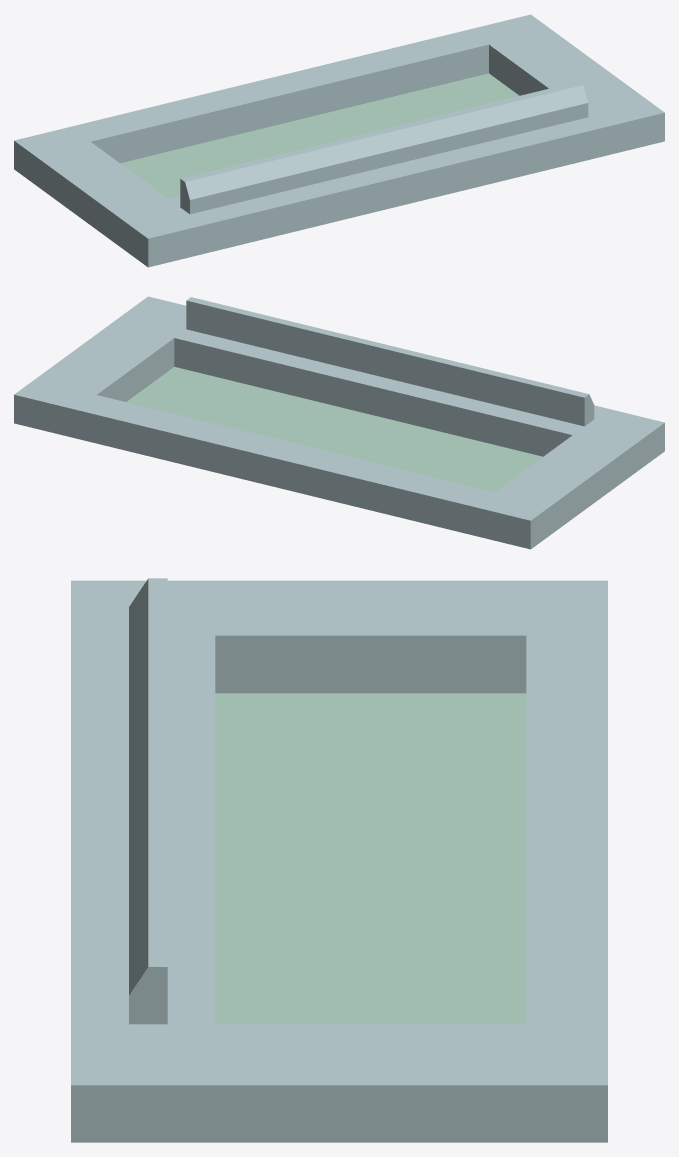
File: gas_stove_door_visual.obj
The picture shows the model from 3 angles, top to bottom: view 1: azimuth 30°, elevation 25°; view 2: azimuth 150°, elevation 25°; view 3: azimuth 270°, elevation 25°; orthographic projection. The views are drawn at different scales.
Visible parts, largest first — view 1: door_ID22; view 2: door_ID22; view 3: door_ID22.
Boxes of the visible parts, x1,y1,x2,y2 form: door_ID22: [14, 14, 664, 267]; door_ID22: [14, 296, 664, 549]; door_ID22: [71, 578, 607, 1142].
Size of the model in its own units: 0.9671 by 0.1028 by 0.4349.
